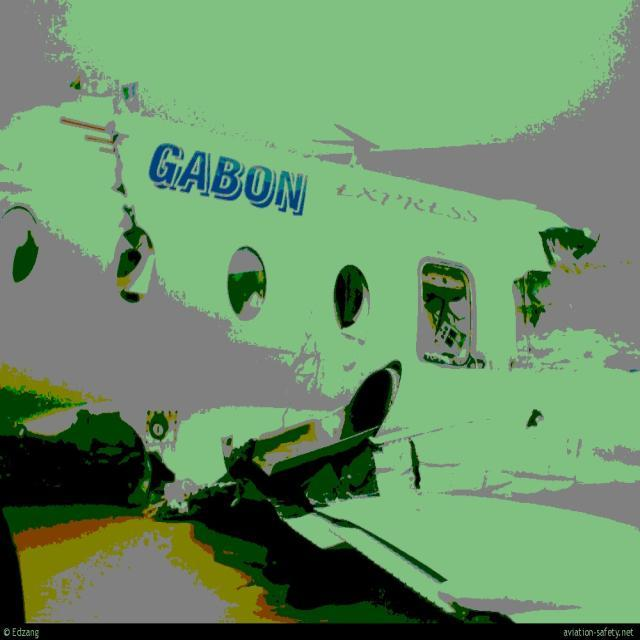crack: (407, 438, 427, 496)
